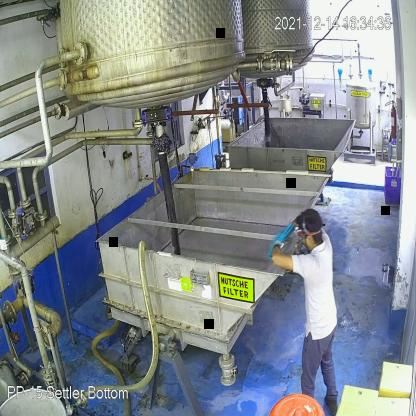shoes: (322, 390, 341, 416)
